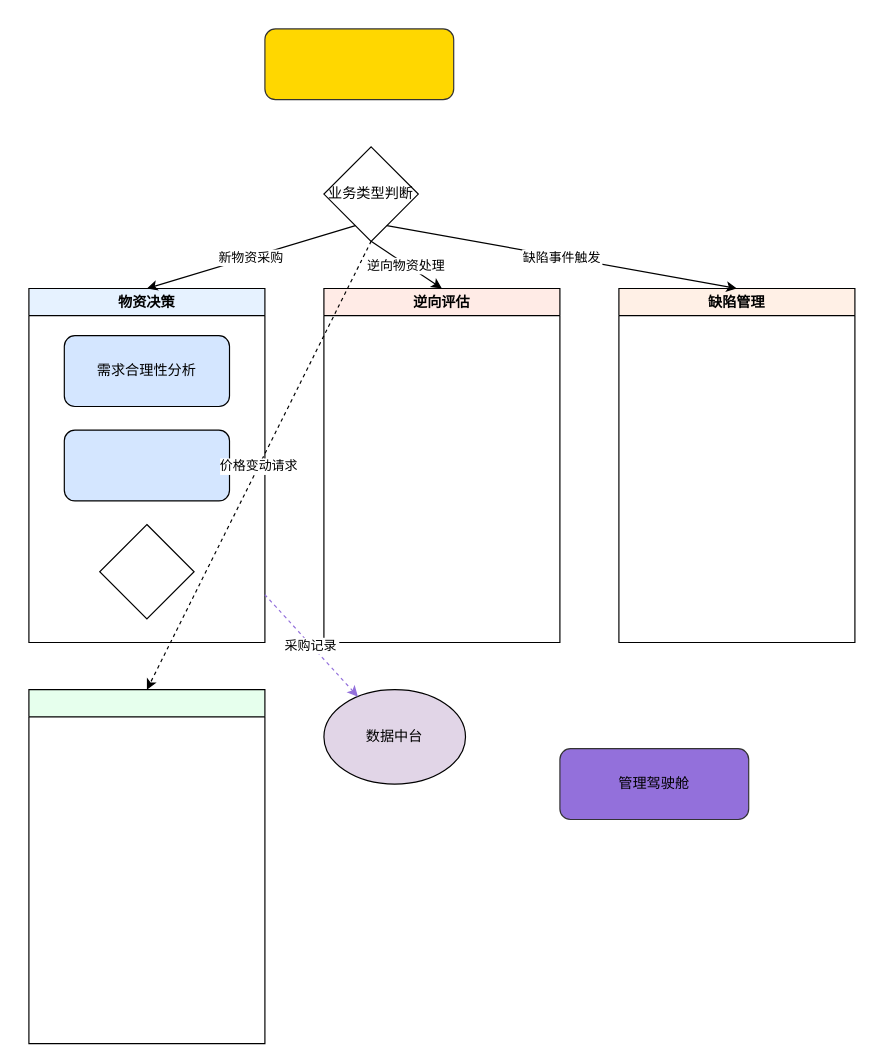
The diagram is 876 pixels wide and 1064 high, and some of its shapes have lost their labels. Each missing label, with the box of its shape:
价格决策: (28, 689, 265, 1044)
物资全生命周期入口: (264, 28, 454, 100)
生成采购方案: (63, 429, 230, 501)
自动审批: (99, 523, 194, 619)
